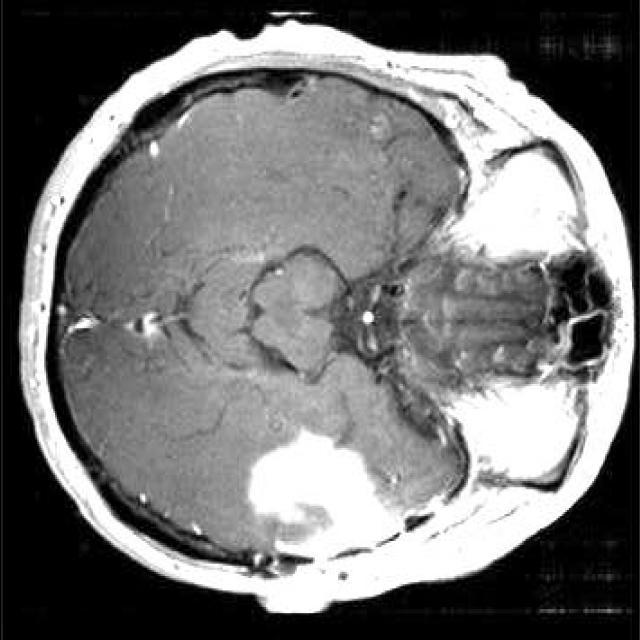tumor: (245, 427, 398, 559), (443, 142, 584, 262), (453, 378, 584, 493)
